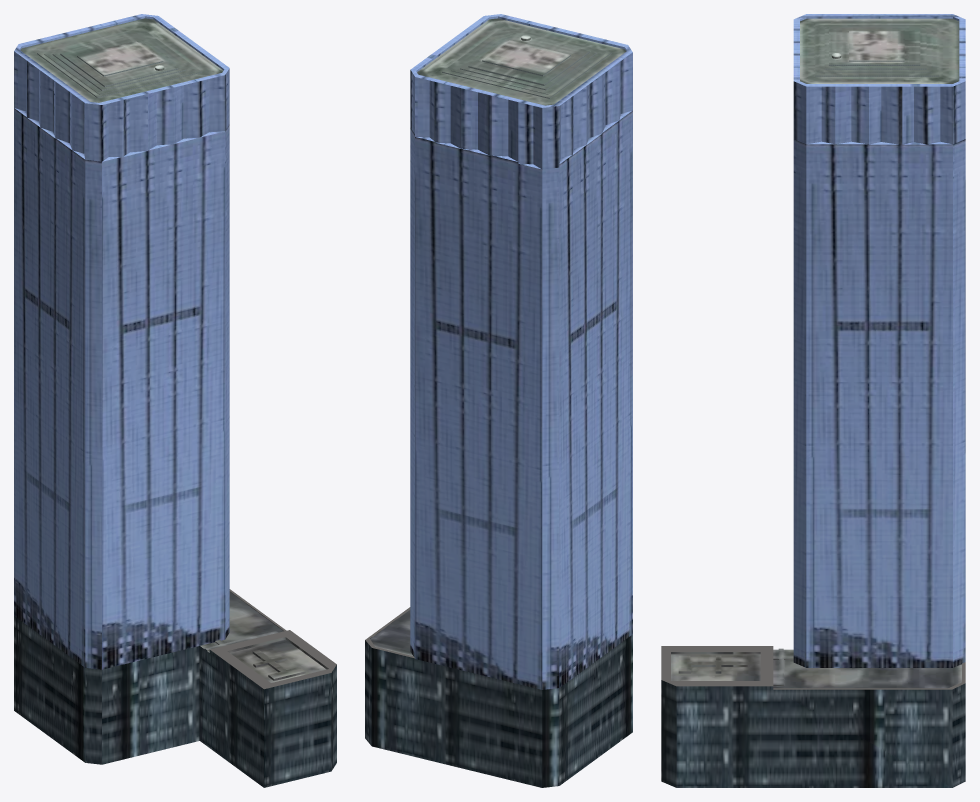
Rendered from trade_center_220f453c.glb.
3 renders of one model, left to right at view 1: azimuth 30°, elevation 25°; view 2: azimuth 150°, elevation 25°; view 3: azimuth 270°, elevation 25°, orthographic. The views are drawn at different scales.
Visible parts, largest first — view 1: trade_center_220f453c; view 2: trade_center_220f453c; view 3: trade_center_220f453c.
Boxes of the visible parts, bbox=[...] form: trade_center_220f453c: bbox=[14, 14, 336, 787]; trade_center_220f453c: bbox=[365, 14, 632, 787]; trade_center_220f453c: bbox=[661, 14, 965, 787].
Size of the model in its own units: 62.1 by 209 by 84.25.
1 material, 1 textured.
